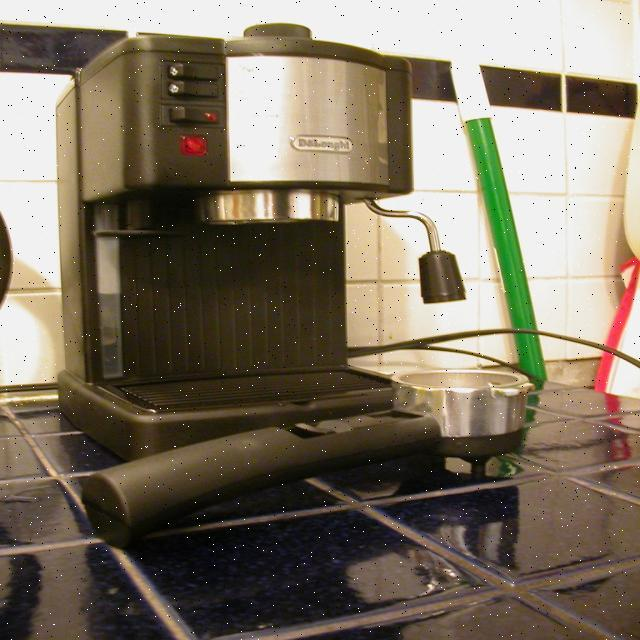Coffee-Machine: (34, 1, 466, 556)
